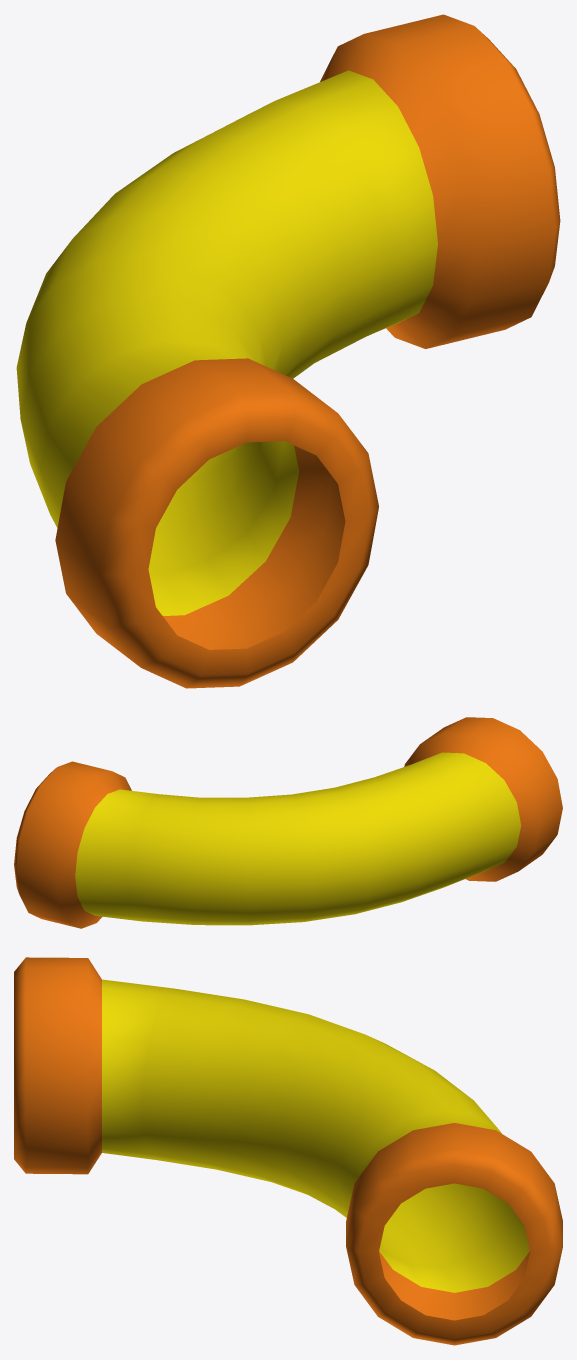
Rendered from pipe_b.fbx.
3 renders of one model, top to bottom at view 1: azimuth 30°, elevation 25°; view 2: azimuth 150°, elevation 25°; view 3: azimuth 270°, elevation 25°, orthographic. The views are drawn at different scales.
Parts seen in each view (by area): view 1: pipe_s_turn_01; view 2: pipe_s_turn_01; view 3: pipe_s_turn_01.
Boxes of the visible parts, x1,y1,x2,y2 form: pipe_s_turn_01: (16, 14, 560, 688); pipe_s_turn_01: (14, 717, 562, 928); pipe_s_turn_01: (14, 957, 562, 1345).
Bounding box in the file's own units: 62.34 × 24.61 × 62.31.
